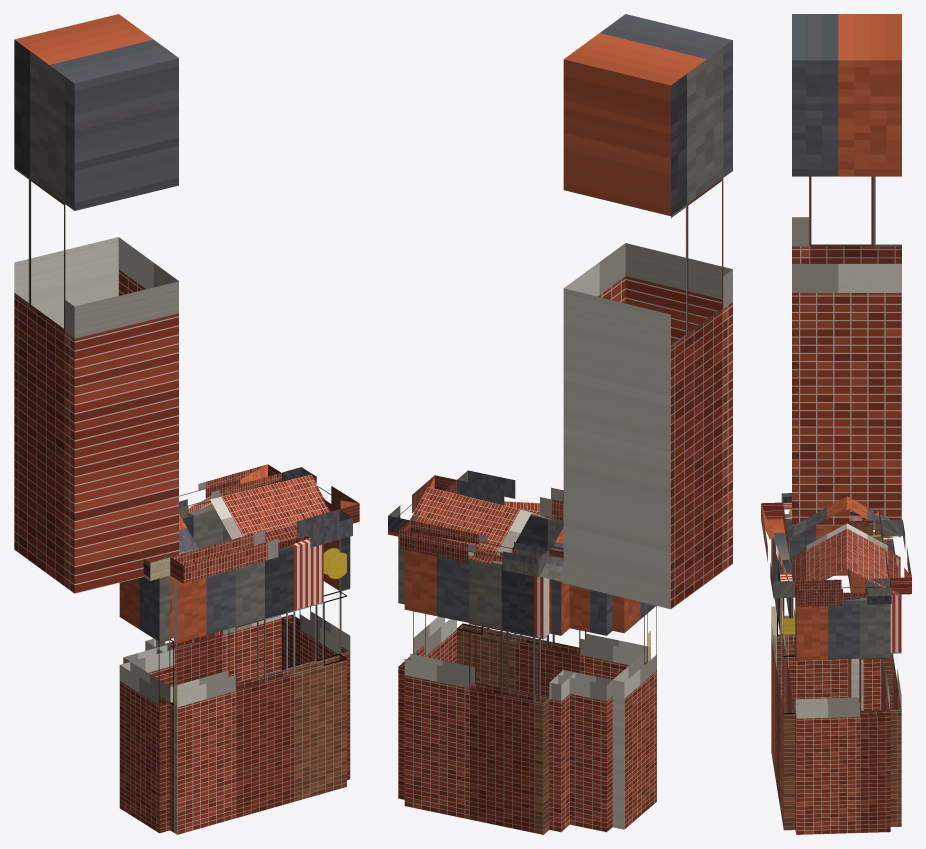
The picture shows the model from 3 angles, left to right: view 1: azimuth 30°, elevation 25°; view 2: azimuth 150°, elevation 25°; view 3: azimuth 270°, elevation 25°; orthographic projection. The views are drawn at different scales.
Parts seen in each view (by area): view 1: 1106965472__chimney_0_xb, 1106965472__wall_2_xb, 1106965472__wall_3_xb, 1106965472__wall_0_xb, 1106965472_roof_-1_xb, 1106965472__cornice_2, 1106965472__wall_1_xb, 1106965472__cornice_0, 1106965472__cornice_1, 1106965472__wall_4_xb; view 2: 1106965472__chimney_0_xb, 1106965472__wall_0_xb, 1106965472__wall_2_xb, 1106965472__wall_4_xb, 1106965472__wall_3_xb, 1106965472_roof_1_xb, 1106965472__wall_5_xb, 1106965472__cornice_0, 1106965472__wall_1_xb, 1106965472__cornice_2, 1106965472__cornice_1; view 3: 1106965472__chimney_0_xb, 1106965472__wall_1_xb, 1106965472__wall_2_xb, 1106965472__wall_3_xb, 1106965472__wall_0_xb, 1106965472_roof_-1_xb, 1106965472_roof_1_xb, 1106965472__cornice_1, 1106965472__cornice_2, 1106965472__wall_5_xb, 1106965472__cornice_0, 1106965472__wall_4_xb.
Part boxes in pixels (left/top/right/bottom): 1106965472__chimney_0_xb: left=14, top=14, right=178, bottom=593; 1106965472__wall_2_xb: left=170, top=538, right=346, bottom=834; 1106965472__wall_3_xb: left=119, top=575, right=170, bottom=833; 1106965472__wall_0_xb: left=163, top=504, right=281, bottom=684; 1106965472_roof_-1_xb: left=179, top=475, right=330, bottom=554; 1106965472__cornice_2: left=170, top=509, right=352, bottom=583; 1106965472__wall_1_xb: left=281, top=537, right=350, bottom=780; 1106965472__cornice_0: left=179, top=464, right=281, bottom=518; 1106965472__cornice_1: left=281, top=467, right=359, bottom=523; 1106965472__wall_4_xb: left=123, top=645, right=167, bottom=682; 1106965472__chimney_0_xb: left=563, top=14, right=732, bottom=609; 1106965472__wall_0_xb: left=404, top=549, right=549, bottom=834; 1106965472__wall_2_xb: left=457, top=510, right=650, bottom=697; 1106965472__wall_4_xb: left=558, top=585, right=612, bottom=832; 1106965472__wall_3_xb: left=612, top=595, right=656, bottom=829; 1106965472_roof_1_xb: left=398, top=487, right=563, bottom=582; 1106965472__wall_5_xb: left=549, top=579, right=575, bottom=832; 1106965472__cornice_0: left=399, top=520, right=549, bottom=577; 1106965472__wall_1_xb: left=398, top=536, right=456, bottom=799; 1106965472__cornice_2: left=457, top=470, right=563, bottom=520; 1106965472__cornice_1: left=388, top=475, right=456, bottom=536; 1106965472__chimney_0_xb: left=792, top=14, right=901, bottom=525; 1106965472__wall_1_xb: left=795, top=598, right=890, bottom=834; 1106965472__wall_2_xb: left=771, top=519, right=795, bottom=830; 1106965472__wall_3_xb: left=782, top=514, right=847, bottom=710; 1106965472__wall_0_xb: left=881, top=536, right=901, bottom=826; 1106965472_roof_-1_xb: left=793, top=496, right=846, bottom=589; 1106965472_roof_1_xb: left=847, top=496, right=900, bottom=597; 1106965472__cornice_1: left=795, top=578, right=891, bottom=606; 1106965472__cornice_2: left=761, top=502, right=795, bottom=598; 1106965472__wall_5_xb: left=850, top=532, right=880, bottom=710; 1106965472__cornice_0: left=881, top=519, right=911, bottom=594; 1106965472__wall_4_xb: left=848, top=569, right=862, bottom=710.
Size of the model in its own units: 0.4131 by 1.05 by 0.2059.
1 material, 1 textured.
